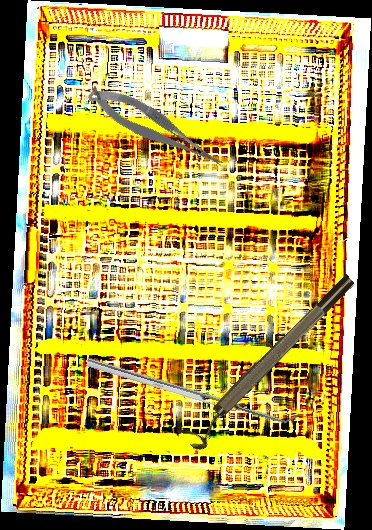Fixation Ring: (176, 270, 366, 455)
Micro Scissor: (84, 73, 227, 185)
Spatula Surgical: (85, 349, 302, 431)
